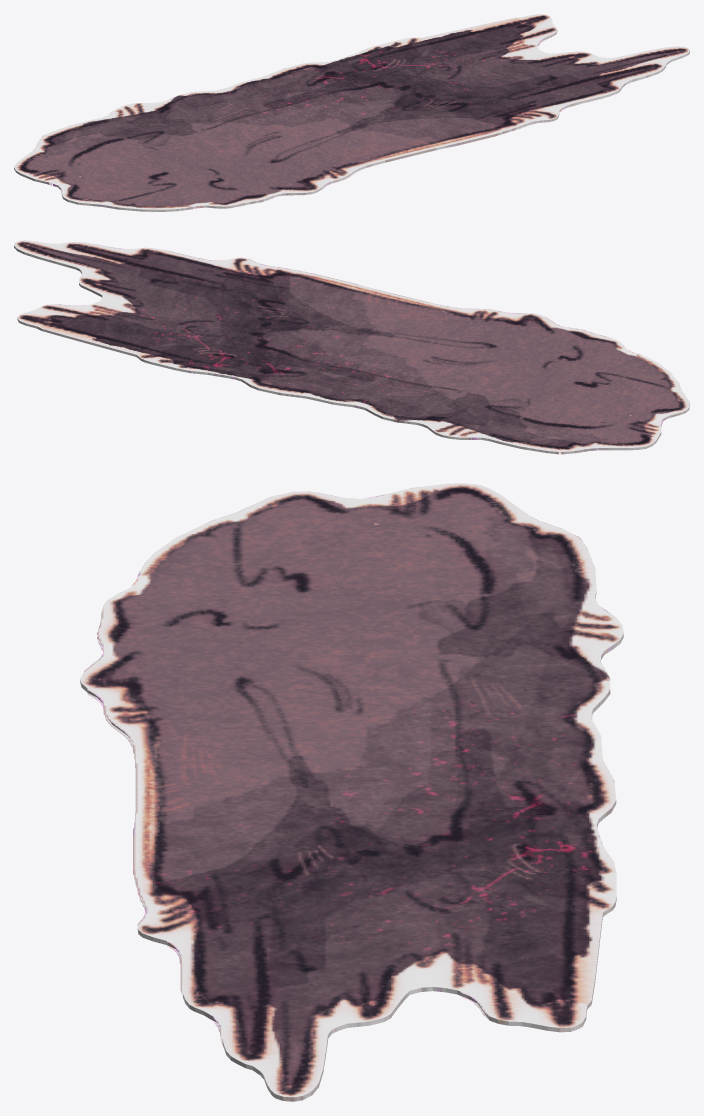
File: 可以掛在牆上的噁心東.fbx
3 renders of one model, top to bottom at view 1: azimuth 30°, elevation 25°; view 2: azimuth 150°, elevation 25°; view 3: azimuth 270°, elevation 25°, orthographic. The views are drawn at different scales.
Parts seen in each view (by area): view 1: 可以掛在牆上的噁心東東; view 2: 可以掛在牆上的噁心東東; view 3: 可以掛在牆上的噁心東東.
Part boxes in pixels (x1,y1,x2,y2): 可以掛在牆上的噁心東東: (14,14,689,211); 可以掛在牆上的噁心東東: (14,240,689,454); 可以掛在牆上的噁心東東: (80,483,623,1101).
Bounding box in the file's own units: 1555 × 5 × 582.
1 material, 1 textured.
